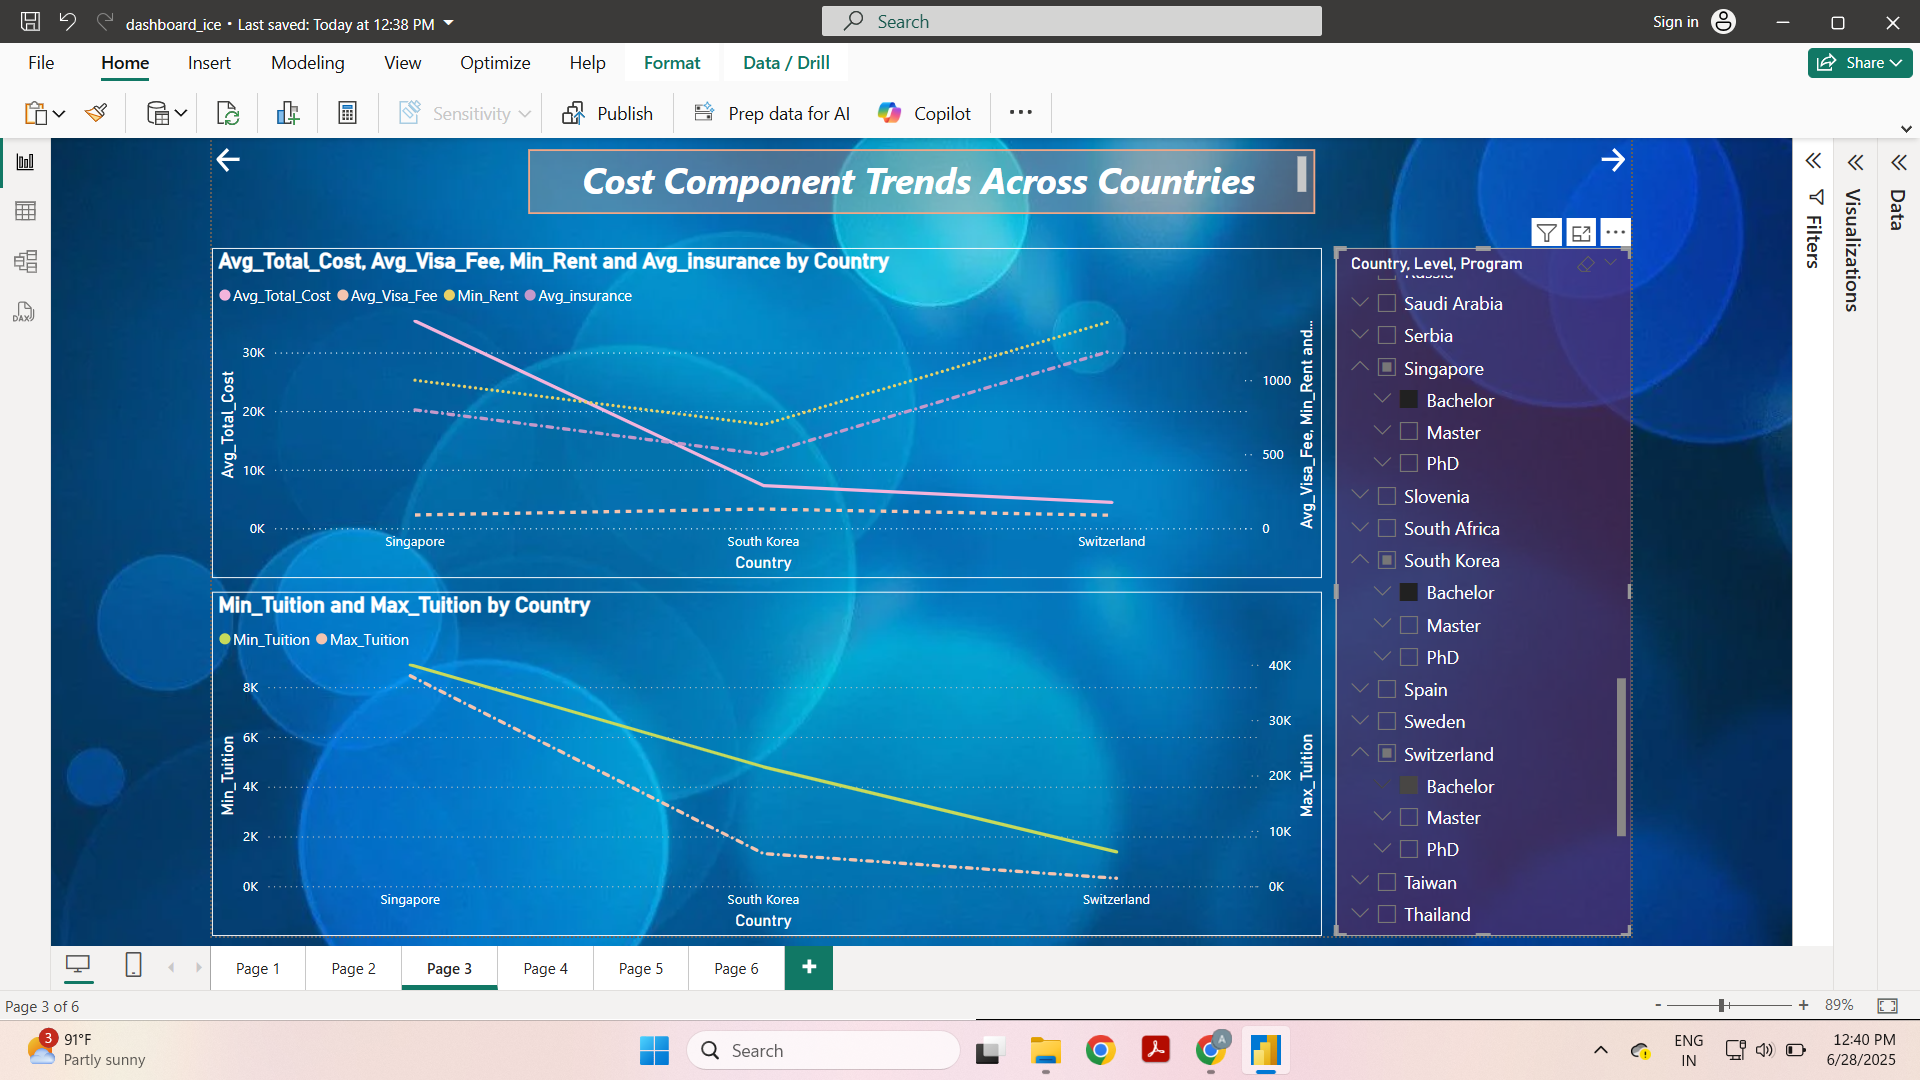

What the dashboard file says about the page in this screenshot:
{"tool":"powerbi","page":{"name":"Page 3","canvas":[1280,720],"ordinal":2},"visuals":[{"type":"slicer","fields":{"Values":["international ed costs.Country","international ed costs.Level","international ed costs.Program"]},"box":[1012.8,98.8,267.4,620.9],"z":0},{"type":"lineChart","fields":{"Category":["international ed costs.Country"],"Y":["international ed costs.Avg_Total_Cost"],"Y2":["international ed costs.Avg_Visa_Fee","international ed costs.Min_Rent","international ed costs.Avg_insurance"]},"box":[0,98.8,1001.2,297.7],"z":1000},{"type":"lineChart","fields":{"Category":["international ed costs.Country"],"Y2":["international ed costs.Max_Tuition"],"Y":["international ed costs.Min_Tuition"]},"box":[0,409.3,1001.2,310.5],"z":2000},{"type":"actionButton","box":[1247.7,0,30.2,39.5],"z":3000},{"type":"actionButton","box":[0,0,30.2,39.5],"z":4000},{"type":"textbox","box":[284.9,10.5,709.3,58.1],"z":5000}]}

Visuals, with their boxes on the page's 1280x720 design canvas (x1, y1, x2, y2). These are canvas units, not pixel positions in the 1920x1080 screenshot, which may show the page scaled, cropped or inside an application window:
slicer - international ed costs.Country x international ed costs.Level: 1013/99/1280/720
lineChart - international ed costs.Country x international ed costs.Avg_Total_Cost: 0/99/1001/396
lineChart - international ed costs.Country x international ed costs.Max_Tuition: 0/409/1001/720
actionButton: 1248/0/1278/40
actionButton: 0/0/30/40
textbox: 285/10/994/69
